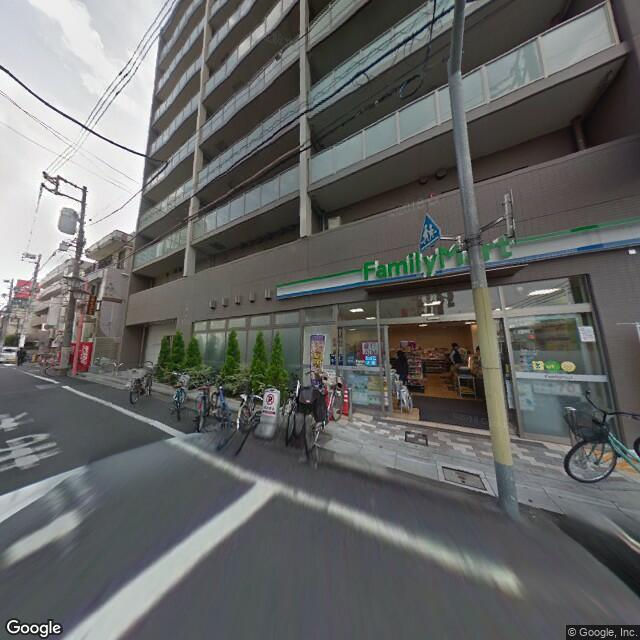family_mart: (274, 215, 639, 302), (354, 229, 520, 288)
